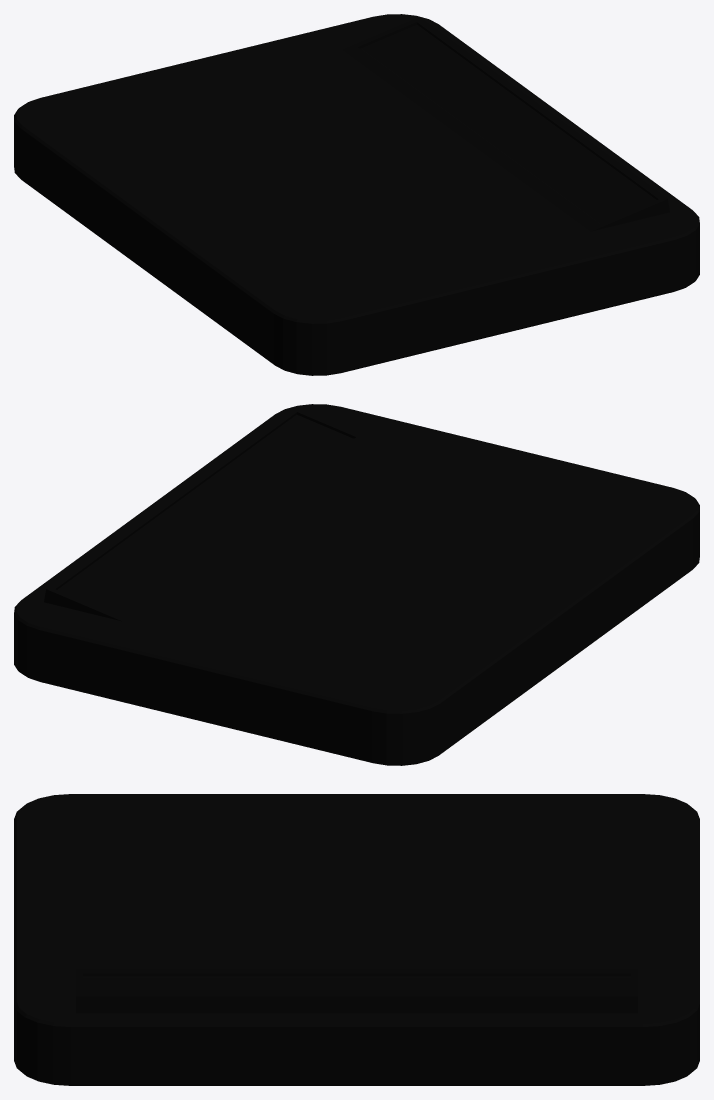
Rendered from phrase_machine_body.gltf.
The picture shows the model from 3 angles, top to bottom: view 1: azimuth 30°, elevation 25°; view 2: azimuth 150°, elevation 25°; view 3: azimuth 270°, elevation 25°; orthographic projection. The views are drawn at different scales.
Parts seen in each view (by area): view 1: Cube, Cube.001; view 2: Cube, Cube.001; view 3: Cube, Cube.001.
Boxes of the visible parts, x1,y1,x2,y2 form: Cube: [14, 14, 699, 375]; Cube.001: [343, 17, 669, 231]; Cube: [14, 404, 699, 765]; Cube.001: [44, 407, 370, 621]; Cube: [14, 794, 699, 1085]; Cube.001: [76, 969, 637, 1013].
Size of the model in its own units: 1.6 by 0.2502 by 2.
1 material, 1 textured.
